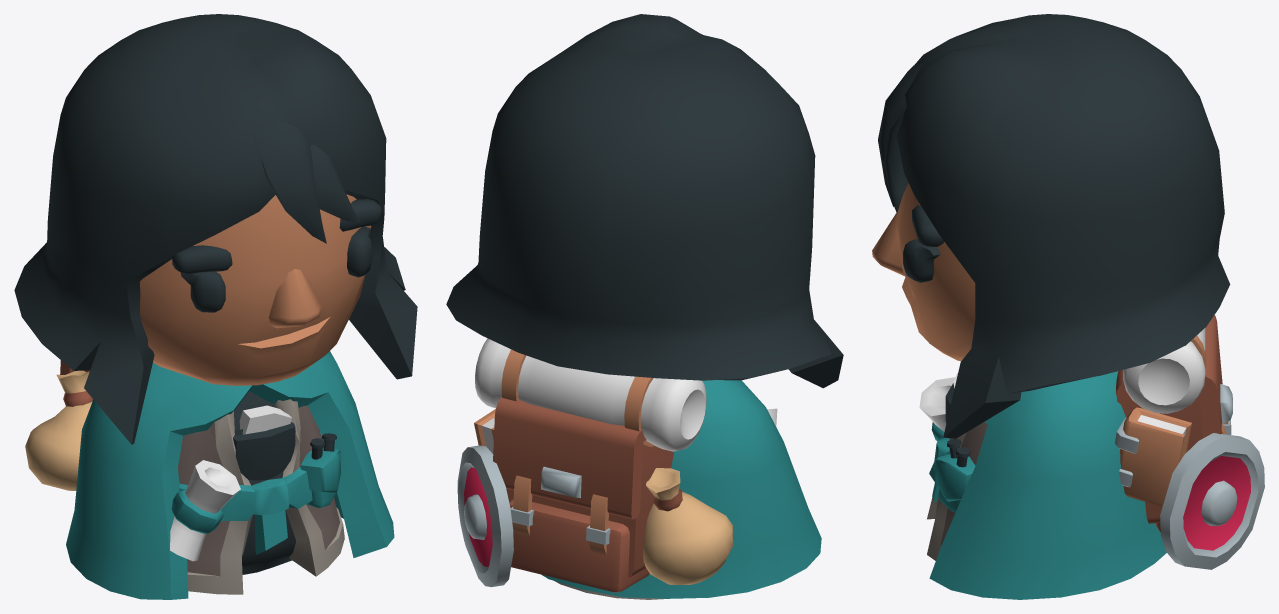
The model's file is character_merchant.gltf.
3 renders of one model, left to right at view 1: azimuth 30°, elevation 25°; view 2: azimuth 150°, elevation 25°; view 3: azimuth 270°, elevation 25°, orthographic.
Parts seen in each view (by area): view 1: character_merchantHead, cloak, character_merchantBody, backpack; view 2: character_merchantHead, backpack, cloak; view 3: character_merchantHead, cloak, backpack, character_merchantBody.
Part boxes in pixels (x1,y1,x2,y2): character_merchantHead: (14,14,417,444); cloak: (66,351,394,599); character_merchantBody: (170,391,344,594); backpack: (25,360,93,490); character_merchantHead: (446,14,843,388); backpack: (457,338,733,592); cloak: (542,380,821,598); character_merchantHead: (872,14,1230,438); cloak: (929,371,1166,599); backpack: (1114,315,1264,569); character_merchantBody: (919,372,987,560).
Size of the model in its own units: 1.31 by 1.8 by 1.27.
